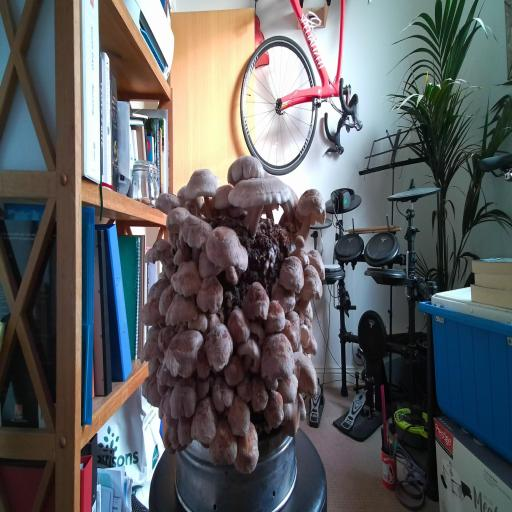Shiitake Mushroom: (207, 143, 311, 249), (190, 209, 264, 297), (177, 156, 229, 224), (195, 315, 243, 379), (171, 202, 218, 266), (133, 229, 190, 281), (223, 421, 270, 484), (287, 179, 334, 242), (163, 324, 205, 382), (218, 300, 259, 353), (293, 261, 328, 323), (188, 390, 222, 450), (255, 384, 295, 435), (221, 392, 258, 445), (262, 275, 306, 319), (187, 247, 231, 291), (221, 149, 270, 187), (203, 371, 240, 421), (260, 332, 295, 382), (160, 194, 195, 244), (159, 288, 203, 327), (215, 349, 253, 394), (234, 332, 267, 383), (240, 277, 272, 326), (139, 268, 175, 311), (147, 360, 187, 398), (170, 182, 211, 219), (180, 304, 217, 344), (277, 389, 306, 440), (169, 258, 203, 300), (243, 370, 273, 417), (209, 419, 238, 466), (301, 242, 334, 283), (293, 348, 318, 400), (137, 370, 165, 416), (149, 186, 188, 219), (275, 316, 308, 354), (150, 316, 182, 355), (169, 378, 197, 420), (277, 183, 301, 232), (151, 279, 180, 319), (278, 252, 306, 293), (282, 303, 310, 342), (196, 274, 223, 313), (242, 315, 272, 348), (139, 325, 164, 362), (191, 343, 214, 383), (232, 374, 258, 408), (163, 421, 187, 456), (276, 373, 300, 407), (139, 297, 164, 328), (170, 235, 193, 268), (287, 231, 309, 264), (211, 182, 235, 211), (265, 300, 286, 333), (301, 332, 323, 362), (157, 385, 173, 421), (299, 300, 320, 325), (177, 415, 193, 447), (294, 391, 309, 423), (204, 307, 223, 332), (295, 245, 312, 271), (195, 377, 213, 400), (147, 356, 162, 375), (163, 416, 180, 429), (301, 324, 310, 348)
